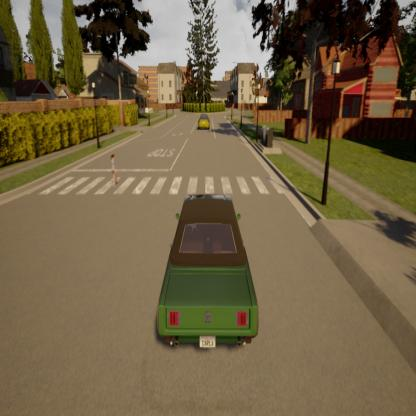Cars: (147, 184, 269, 366), (196, 112, 213, 132)
Pedestrian: (104, 150, 123, 192)
